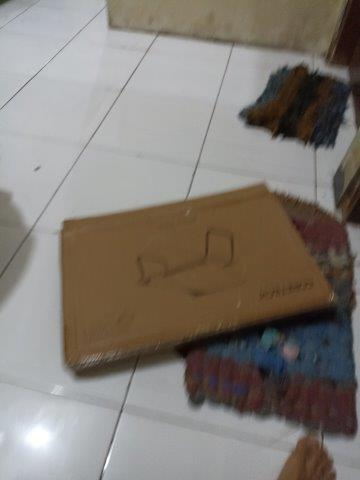kardus: (61, 187, 332, 371)
